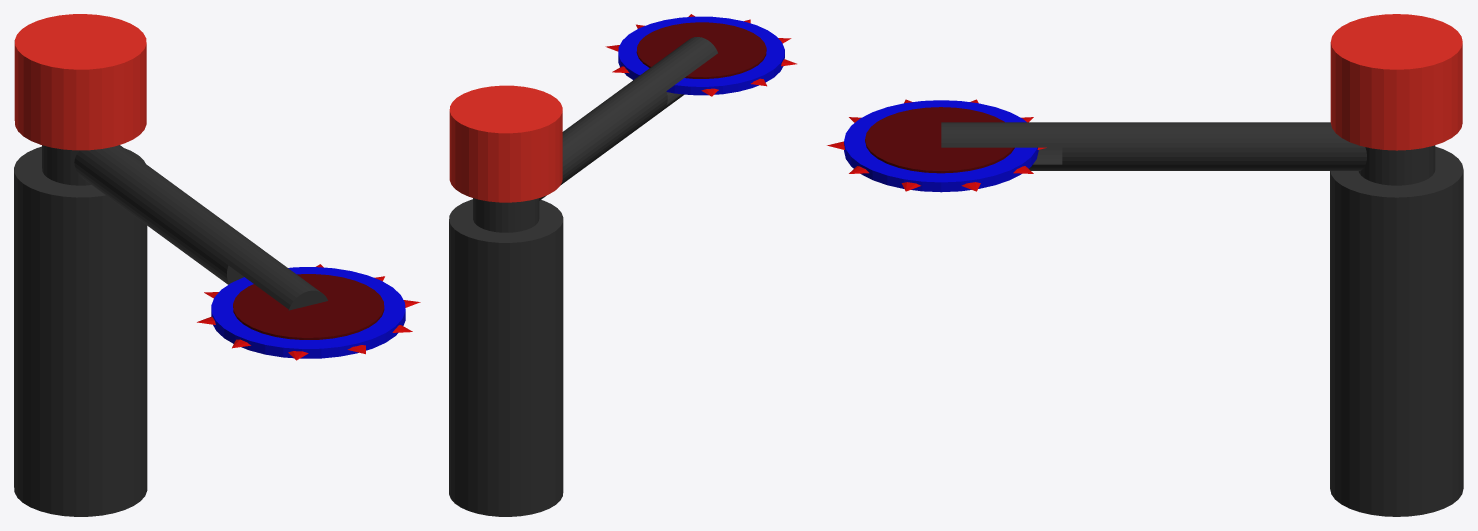
The model's file is obstacleRotate.fbx.
3 views of the same model, side by side, from view 1: azimuth 30°, elevation 25°; view 2: azimuth 150°, elevation 25°; view 3: azimuth 270°, elevation 25° (orthographic). The views are drawn at different scales.
Visible parts, largest first — view 1: Cylinder.006, Cylinder.002, Cylinder.001, Cylinder, Icosphere.002; view 2: Cylinder.006, Cylinder.002, Cylinder.001, Cylinder, Icosphere.002; view 3: Cylinder.006, Cylinder.002, Cylinder.001, Cylinder, Icosphere.002.
Boxes of the visible parts, x1,y1,x2,y2 form: Cylinder.006: (14,145,327,516); Cylinder.002: (14,14,146,150); Cylinder.001: (233,274,384,339); Cylinder: (211,267,405,358); Icosphere.002: (197,264,420,360); Cylinder.006: (449,37,718,516); Cylinder.002: (449,85,562,202); Cylinder.001: (636,22,766,78); Cylinder: (618,16,784,95); Icosphere.002: (605,14,796,96); Cylinder.006: (941,122,1463,516); Cylinder.002: (1330,14,1462,150); Cylinder.001: (865,107,1014,173); Cylinder: (844,100,1038,192); Icosphere.002: (827,99,1046,191).
Bounding box in the file's own units: 190 × 429 × 555.
